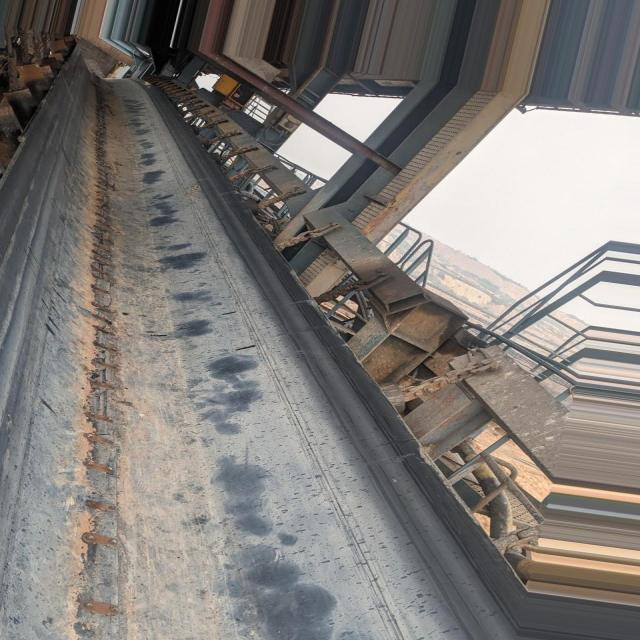patch work: (67, 73, 138, 640)
